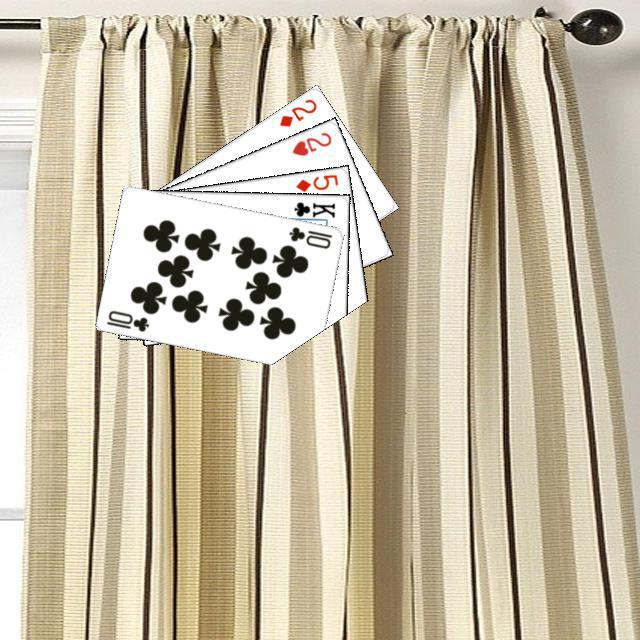10c: (284, 222, 334, 250), (102, 305, 151, 333)
2d: (274, 94, 319, 129)
2h: (287, 127, 333, 158)
5d: (291, 169, 340, 193)
Kc: (284, 197, 337, 223)
